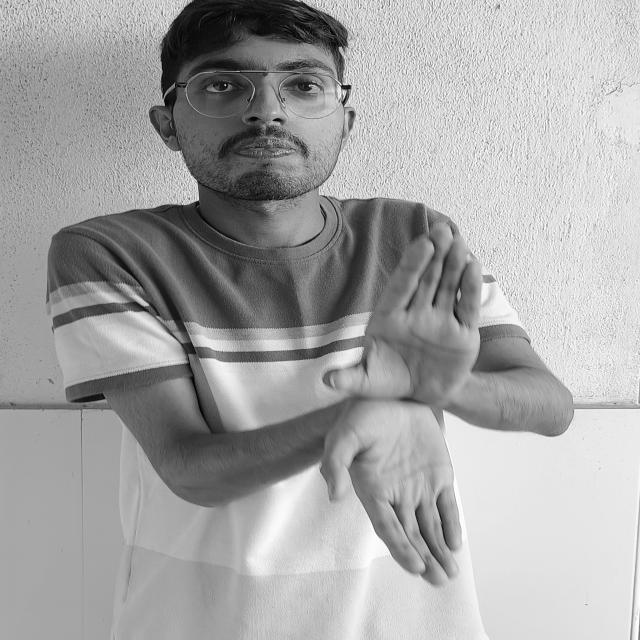Morning: (308, 207, 508, 611)
